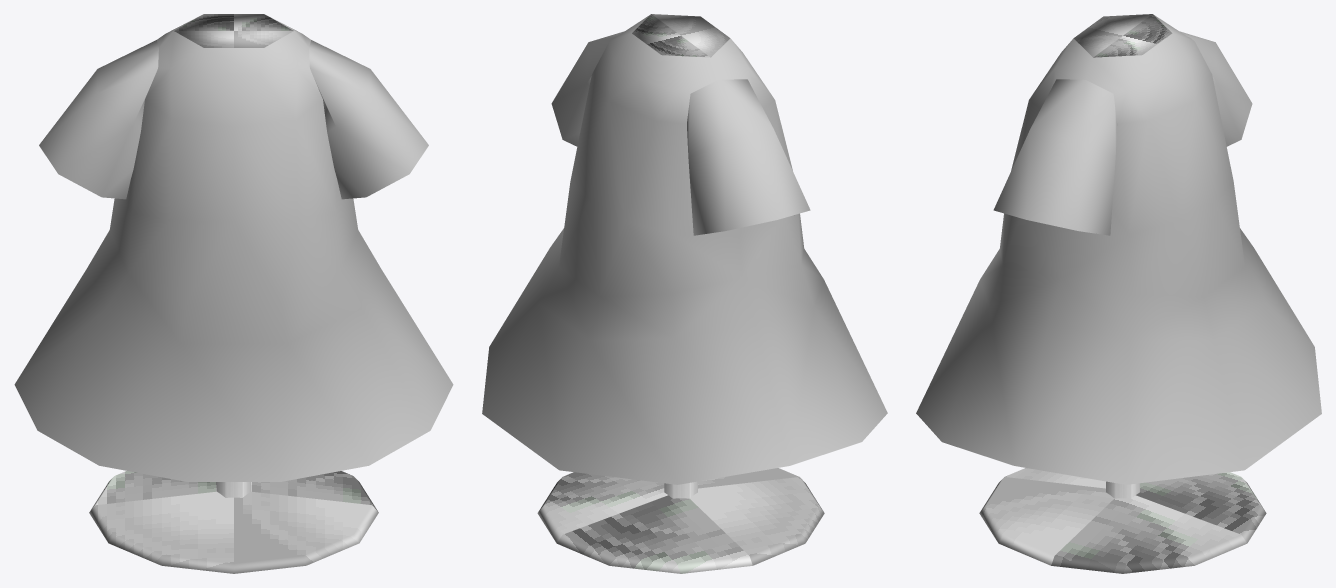
The model's file is mq_tops_onpH_grc.dae.
3 renders of one model, left to right at view 1: azimuth 30°, elevation 25°; view 2: azimuth 150°, elevation 25°; view 3: azimuth 270°, elevation 25°, orthographic.
Parts seen in each view (by area): view 1: mq_tops_onpH_grc; view 2: mq_tops_onpH_grc; view 3: mq_tops_onpH_grc.
Boxes of the visible parts, <box> form: mq_tops_onpH_grc: <box>14,14,453,573</box>; mq_tops_onpH_grc: <box>482,14,887,573</box>; mq_tops_onpH_grc: <box>916,14,1321,573</box>.
Bounding box in the file's own units: 25.83 × 31.18 × 24.02.
Materials: 2 (2 with a texture image).
